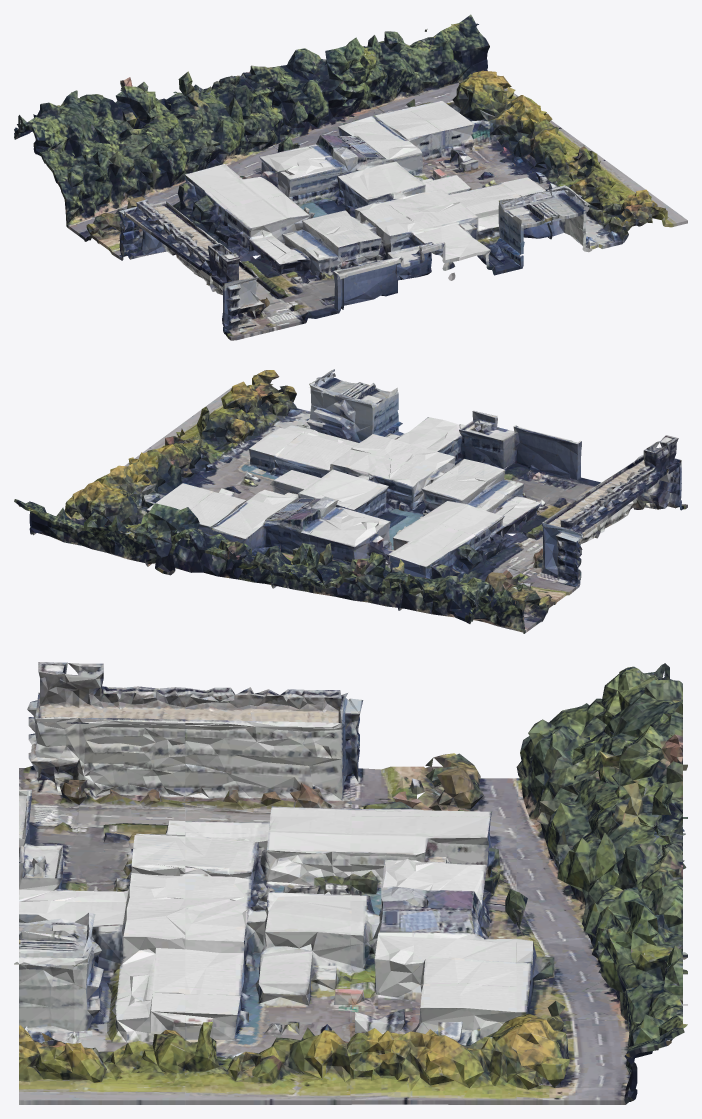
Rendered from Split10.fbx.
3 renders of one model, top to bottom at view 1: azimuth 30°, elevation 25°; view 2: azimuth 150°, elevation 25°; view 3: azimuth 270°, elevation 25°, orthographic. The views are drawn at different scales.
Visible parts, largest first — view 1: BuildingMesh-00090; view 2: BuildingMesh-00090; view 3: BuildingMesh-00090.
Boxes of the visible parts, <box> form: BuildingMesh-00090: <box>14,14,687,340</box>; BuildingMesh-00090: <box>14,369,687,633</box>; BuildingMesh-00090: <box>14,662,687,1104</box>.
Bounding box in the file's own units: 196 × 35.29 × 162.
8 materials, 8 textured.
